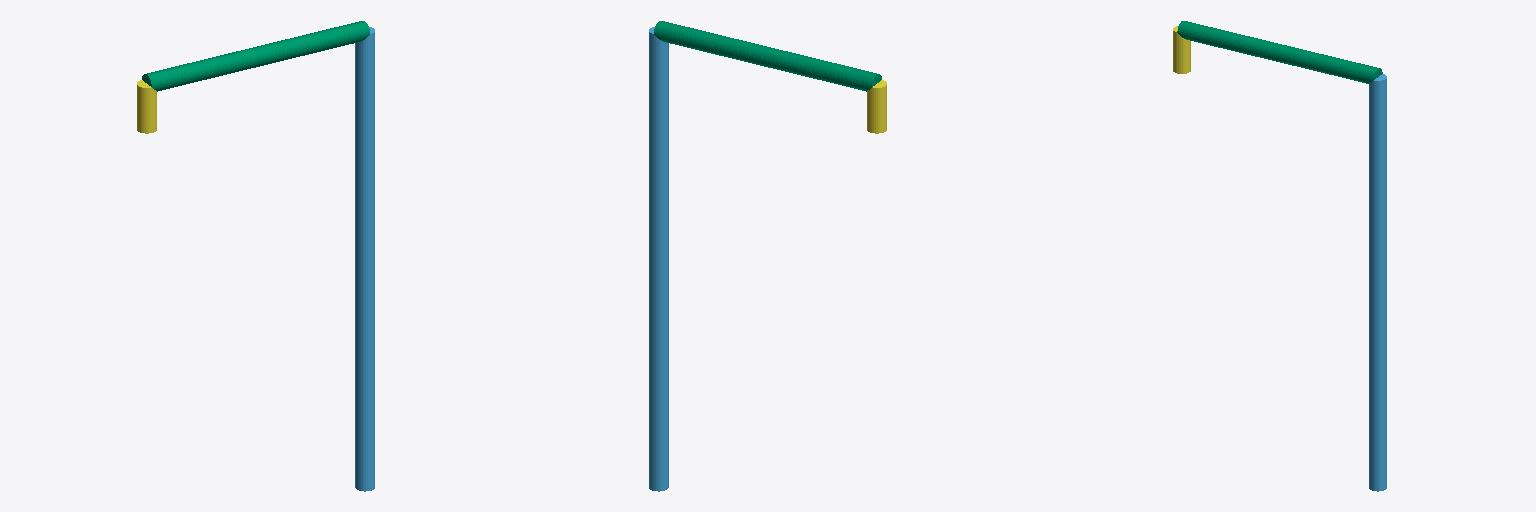
URDF robot description (LISM_Arm):
<?xml version="1.0" ?>
<robot name="LISM_Arm">
     <!--base of fixing arm-->
    <link name="world"/>

    <joint name="worldTolink1" type="fixed">
        <parent link="world"/>
        <child link="link1"/>
        <origin xyz="0.5 0.0 0.0"/>
    </joint>
    
    <link name="link1">
        <visual>
            <origin rpy="0.0 0.0 0.0" xyz="0 0 0.5"/>
            <geometry>
                <cylinder length="1.0" radius="0.02"/>
            </geometry>
        </visual>
    </link>

    <joint name="link1_link2" type="fixed">
        <origin rpy="0 0 0" xyz="-0.25 0 1.0"/>
        <parent link="link1"/>
        <child link="link2"/>
    </joint>

    <link name="link2">
        <visual>
            <origin rpy="0.0 1.57 0.0" xyz="0.0 0 0.0"/>
            <geometry>
                <cylinder length="0.5" radius="0.02"/>
            </geometry>
        </visual>
    </link>

    <joint name="link2_link3" type="revolute">
        <origin rpy="0 0 0" xyz="-0.25 0 0.0"/>
        <axis xyz = "1 0 0"/>
        <parent link="link2"/>
        <child link="link3"/>
    </joint>

    <link name="link3">
        <visual>
            <origin rpy="0.0 0.0 0.0" xyz="0 0 -0.05"/>
            <geometry>
                <cylinder length="0.1" radius="0.02"/>
            </geometry>
        </visual>
    </link>

    <!-- <joint name="link3_link4" type="revolute">
        <axis xyz= "0 0 1"/>
        <origin rpy="0 0 0" xyz="0.0 0.0 -0.1"/>
        <parent link="link3"/>
        <child link="link4"/>
    </joint>

    <link name="link4">
        <visual>
            <origin rpy="0.0 0.0 0.0" xyz="0 0 -0.05"/>
            <geometry>
                <cylinder length="0.5" radius="0.02"/>
            </geometry>
        </visual>
    </link> -->

    <!-- <joint name="link4_link5" type="prismatic">
        <axis xyz= "0 0 1"/>
        <origin rpy="0 0 0" xyz="0.0 0 -0.1"/>
        <parent link="link4"/>
        <child link="link5"/>
    </joint>

    <link name="link5">
        <visual>
            <origin rpy="0.0 0.0 0.0" xyz="0.0 0 -0.075"/>
            <geometry>
                <cylinder length="0.15" radius="0.02"/>
            </geometry>
        </visual>
    </link> -->

    <!-- <joint name="link5_hand" type="revolute">
        <axis xyz="0 1 0"/>
        <origin rpy="0 0 0" xyz="0.0 0 -0.15"/>
        <parent link="link5"/>
        <child link="hand"/>
    </joint> -->

    <!-- <link name="hand">
        <visual>
            <origin rpy="0.0 -1.57 0.0" xyz="0 0 0"/>
            <geometry>
                <mesh filename="meshes/hand.dae" scale="0.001 0.001 0.001"/>
            </geometry>
        </visual>
        <inertial>
            <mass value="0.2"/>
            <origin rpy="0.0 0.0 0.0" xyz="0 0 0"/>
            <inertia ixx="0.00267" ixy="0" ixz="0.0" iyy="0.00267" iyz="0" izz="0.00267"/>
        </inertial>
        <collision>
            <origin rpy="0.0 -1.57 0.0" xyz="0 0.0 0"/>
            <geometry>
                <mesh filename="meshes/hand.obj" scale="0.001 0.001 0.001"/> 
            </geometry>
            <material name="">
                <contact name="steel"/>
            </material>
        </collision>
    </link> -->

    <!-- <joint name="worldToball" type="free">
        <parent link="world"/>
        <child link="ball"/>
        <origin rpy="0 0 0" xyz="0 0 0"/>
    </joint> -->

</robot>

--- What the picture shows (computed from the rendered views, not written in the file) ---
Views: 3 orthographic renders of the robot side by side, from view 1: azimuth 30°, elevation 25°; view 2: azimuth 150°, elevation 25°; view 3: azimuth 330°, elevation 25°.
Model LISM_Arm with 4 links and 3 joints (1 revolute, 2 fixed), rooted at world, posed all joints at 0.
Visible links, largest first — view 1: link1, link2, link3; view 2: link1, link2, link3; view 3: link1, link2, link3.
Boxes of the visible links, x1,y1,x2,y2 form: link1: (355,27,374,491); link2: (142,21,369,91); link3: (137,80,156,133); link1: (649,27,668,491); link2: (654,21,881,91); link3: (867,80,886,133); link1: (1369,74,1386,491); link2: (1177,21,1382,83); link3: (1173,26,1190,73).
Bounding box of the posed robot: 0.54 × 0.04 × 1.02 m (x, y, z).
Geometry: primitives only (box / cylinder / sphere), no mesh files.